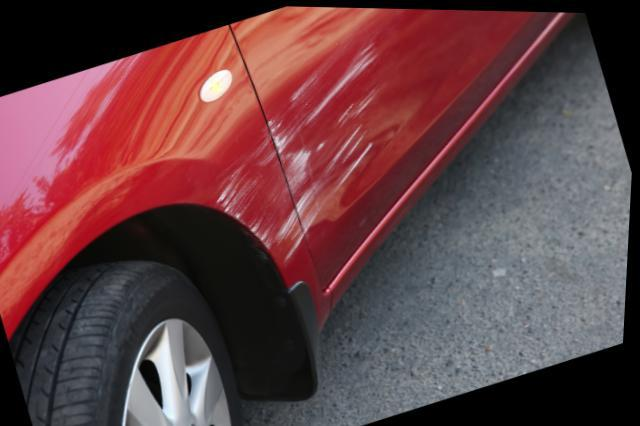scratch: (266, 34, 385, 232), (209, 119, 308, 269)
